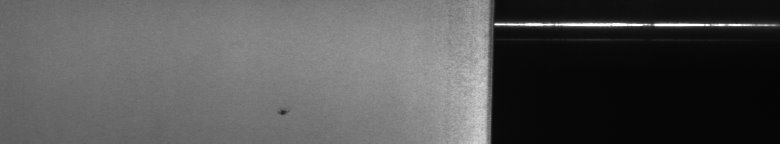fi: (276, 100, 290, 124)
